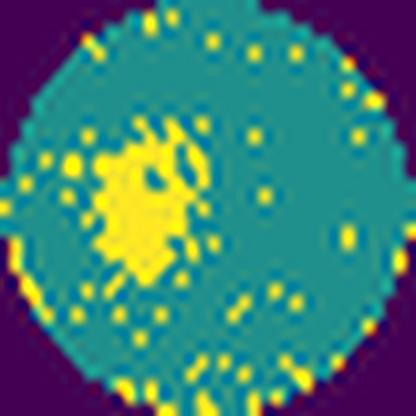Loc: (82, 113, 217, 289)
